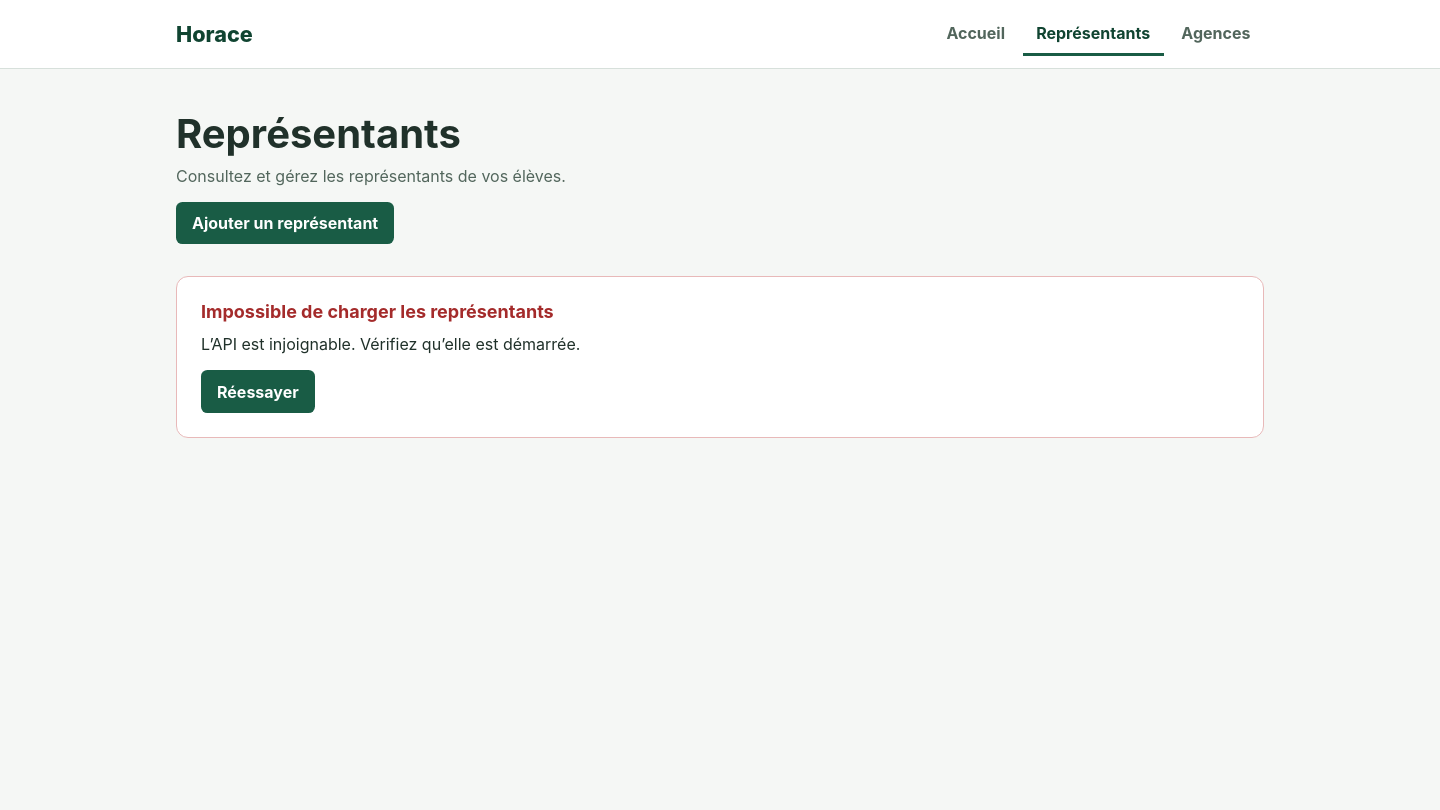
Test: page représentants › relance la lecture après une erreur
This screenshot has width=1440, height=810.
Step 1. Click the button "Réessayer" → (258, 392), box [201,370,315,413]
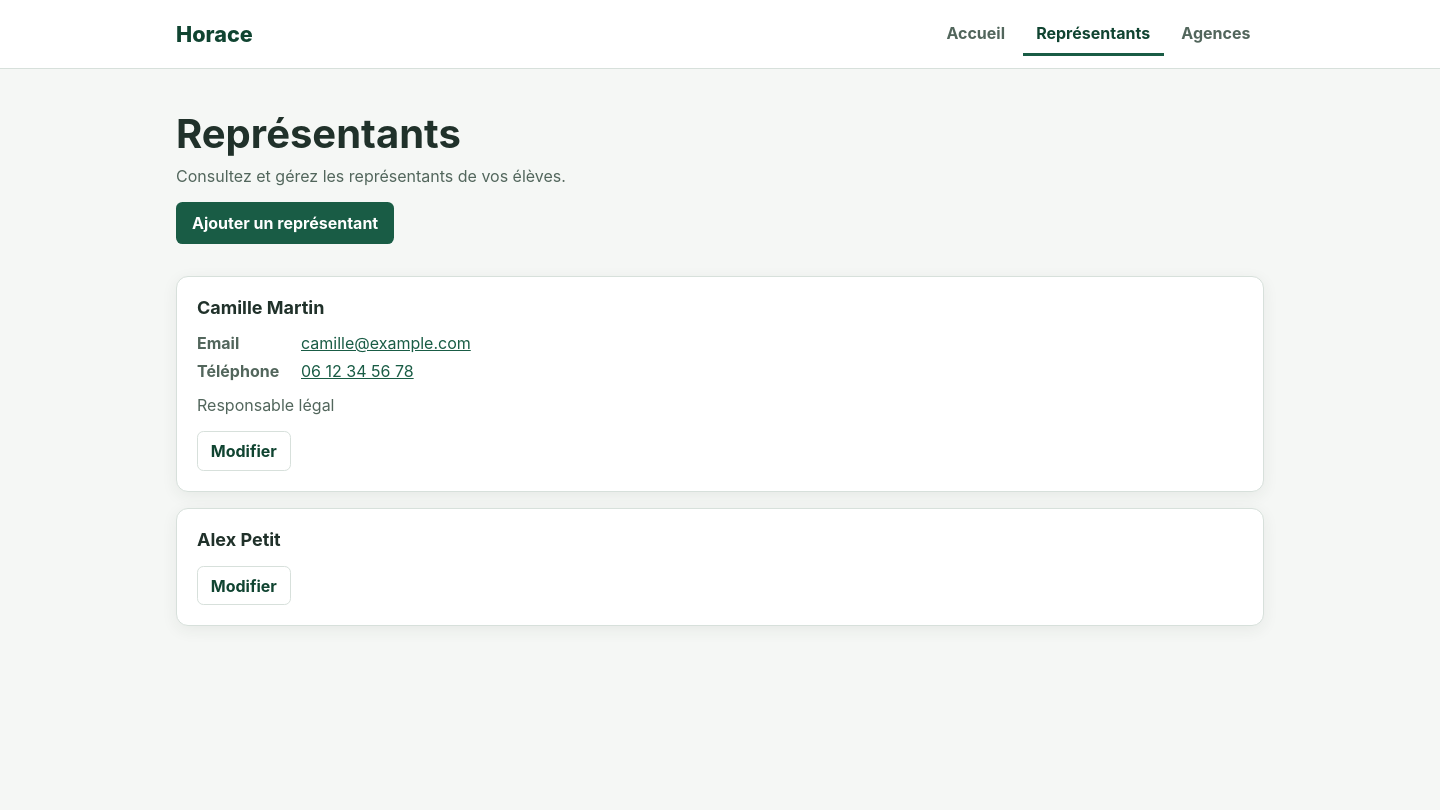
Expected: the heading "Camille Martin" is shown, [197,297,324,318]
